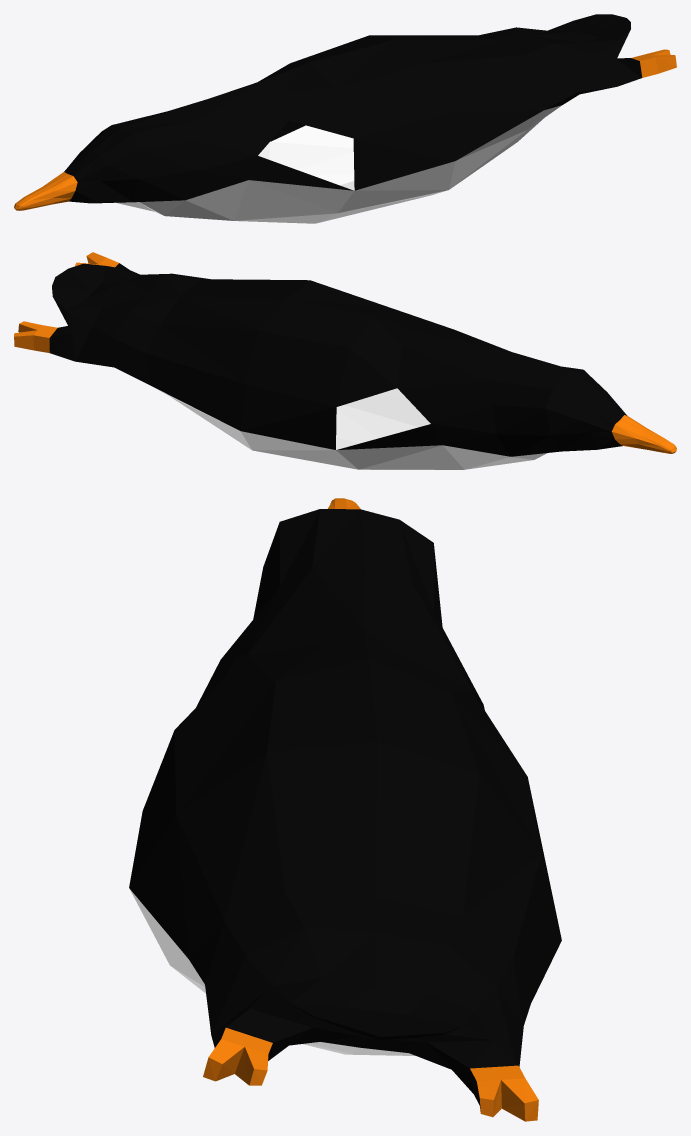
The model's file is Penguin.obj.
3 views of the same model, one above another, from view 1: azimuth 30°, elevation 25°; view 2: azimuth 150°, elevation 25°; view 3: azimuth 270°, elevation 25° (orthographic). The views are drawn at different scales.
Visible parts, largest first — view 1: Penguin:Mesh; view 2: Penguin:Mesh; view 3: Penguin:Mesh.
Part boxes in pixels (left/top/right/bottom): Penguin:Mesh: left=14, top=14, right=676, bottom=223; Penguin:Mesh: left=14, top=252, right=676, bottom=469; Penguin:Mesh: left=129, top=498, right=561, bottom=1121.
Bounding box in the file's own units: 2.1 × 0.4547 × 0.6302.
3 materials, 3 textured.
